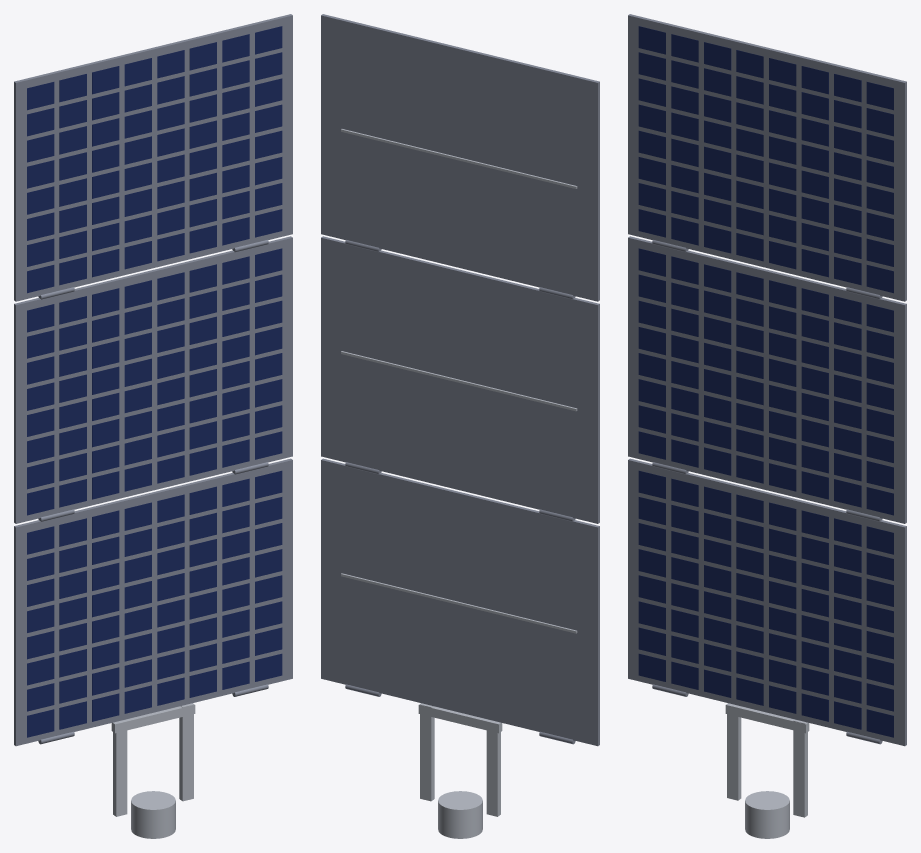
The model's file is pan1500.glb.
3 views of the same model, side by side, from view 1: azimuth 30°, elevation 25°; view 2: azimuth 150°, elevation 25°; view 3: azimuth 330°, elevation 25° (orthographic).
Parts seen in each view (by area): view 1: pan1500, pan1500_motor, pan1500_yugo_s2, pan1500_yugo_s1, pan1500_yugo_cross; view 2: pan1500, pan1500_motor, pan1500_yugo_s2, pan1500_yugo_s1, pan1500_yugo_cross; view 3: pan1500, pan1500_motor, pan1500_yugo_s2, pan1500_yugo_s1, pan1500_yugo_cross.
Boxes of the visible parts, x1,y1,x2,y2 form: pan1500: (14, 14, 292, 746); pan1500_motor: (131, 791, 175, 838); pan1500_yugo_s2: (179, 703, 193, 801); pan1500_yugo_s1: (113, 730, 127, 816); pan1500_yugo_cross: (111, 703, 195, 733); pan1500: (321, 14, 599, 746); pan1500_motor: (438, 791, 482, 838); pan1500_yugo_s2: (420, 703, 434, 801); pan1500_yugo_s1: (486, 730, 500, 816); pan1500_yugo_cross: (418, 703, 502, 733); pan1500: (628, 14, 906, 746); pan1500_motor: (745, 791, 789, 838); pan1500_yugo_s2: (793, 719, 807, 817); pan1500_yugo_s1: (727, 714, 741, 800); pan1500_yugo_cross: (725, 703, 809, 733).
Bounding box in the file's own units: 1 × 2.69 × 0.14.
